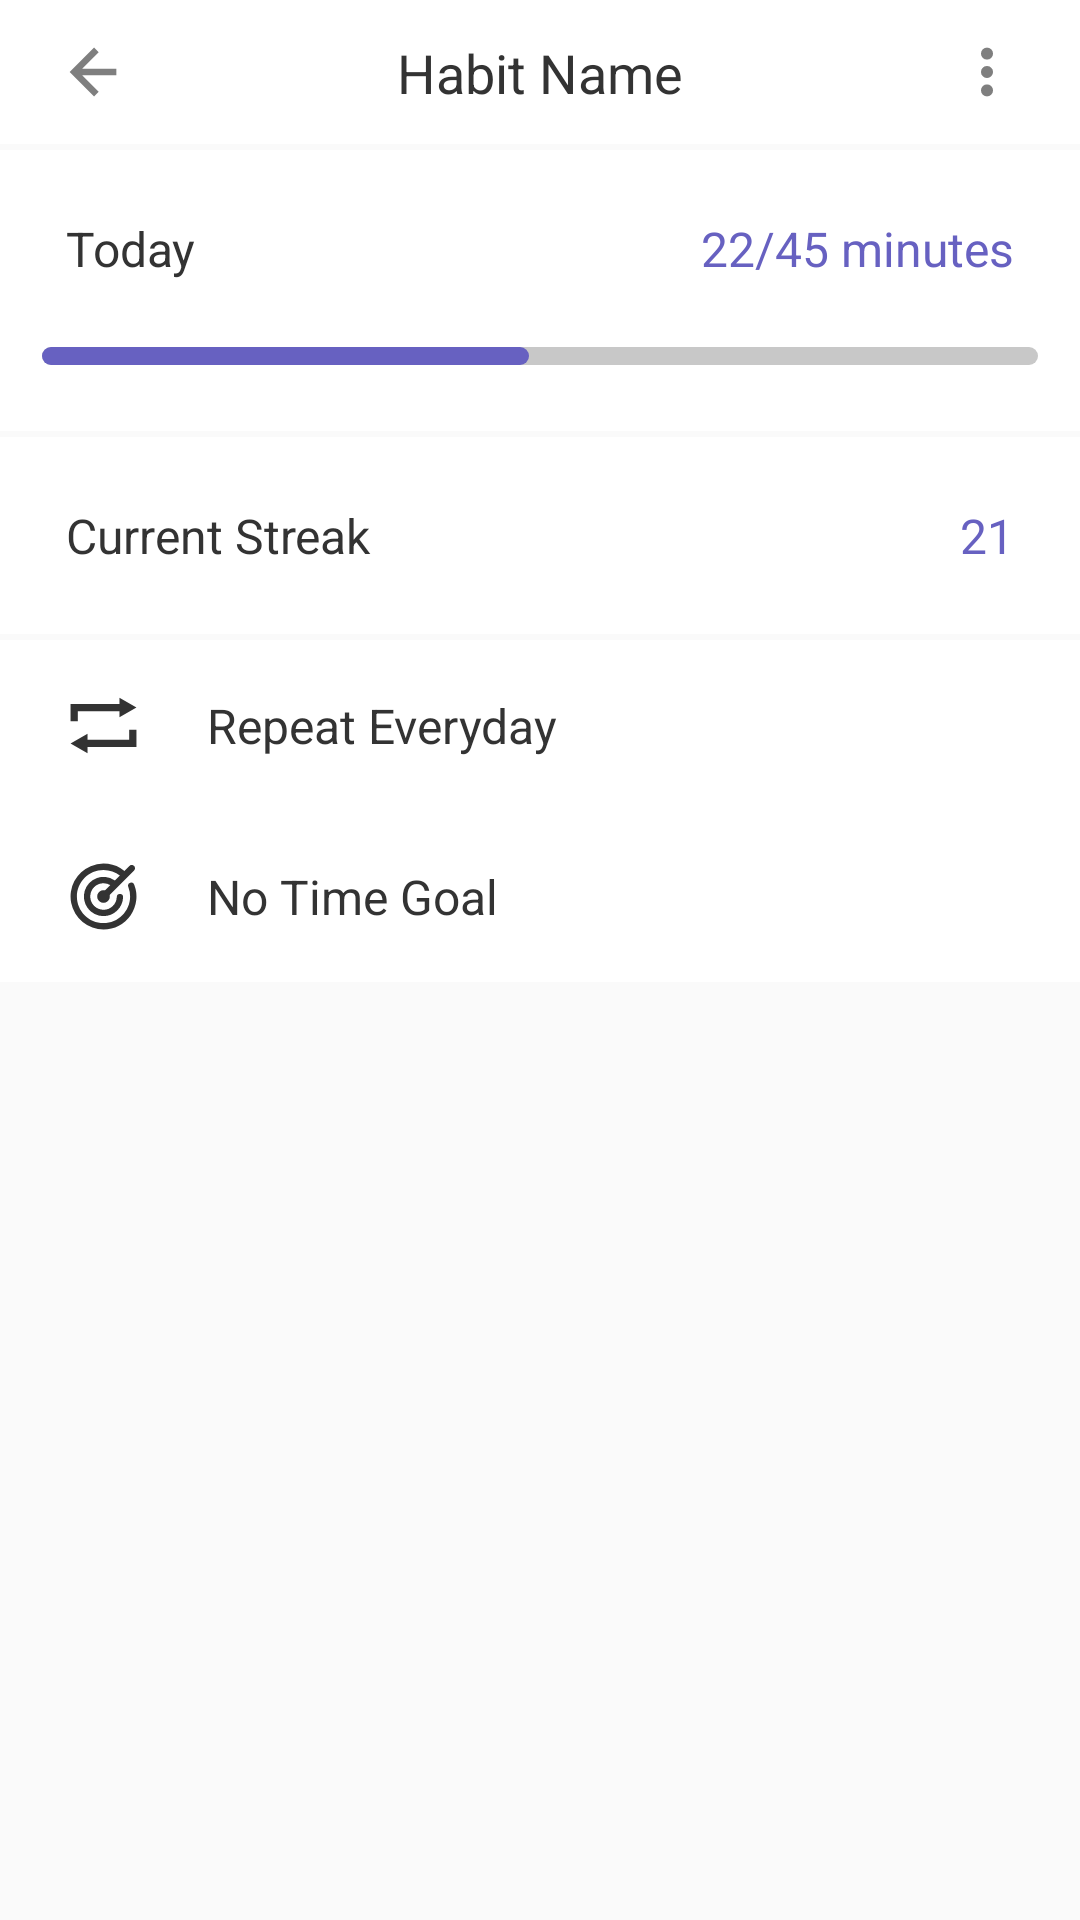

Icons on this 1080px×1920px Android screen, each with the point to tap as (x=x, y=y):
back arrow: (x=93, y=72)
